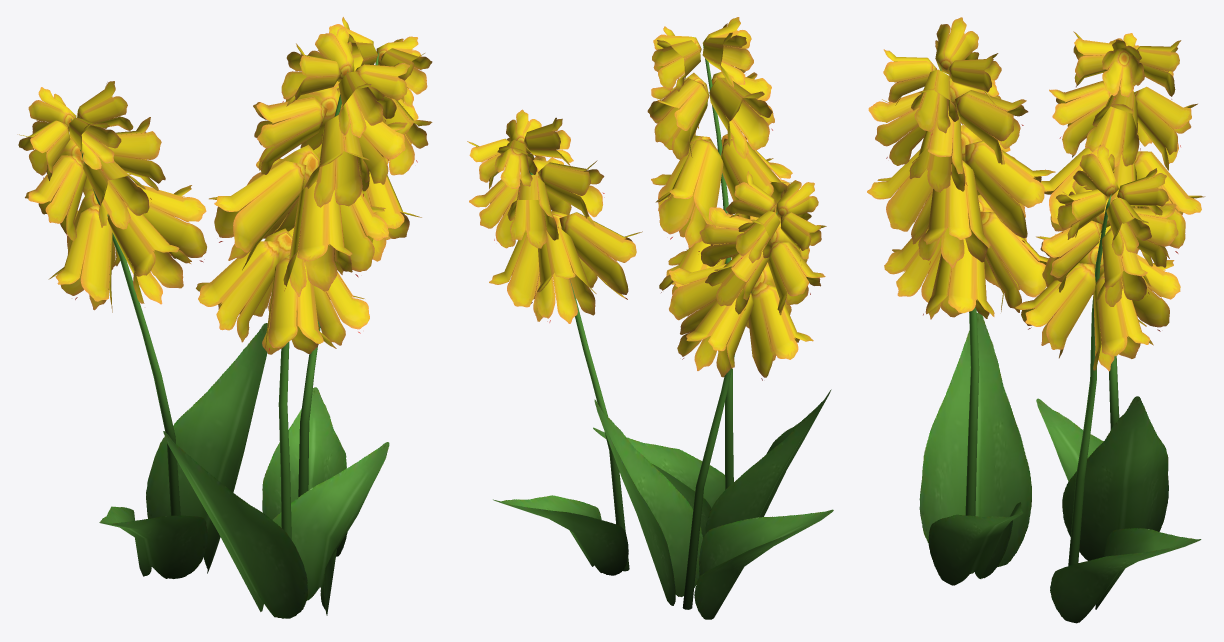
The model's file is fleurs-4.glb.
The picture shows the model from 3 angles, left to right: view 1: azimuth 30°, elevation 25°; view 2: azimuth 150°, elevation 25°; view 3: azimuth 270°, elevation 25°; orthographic projection. The views are drawn at different scales.
Visible parts, largest first — view 1: Flower_4_Group; view 2: Flower_4_Group; view 3: Flower_4_Group.
Boxes of the visible parts, bbox=[...] form: Flower_4_Group: bbox=[17, 17, 432, 618]; Flower_4_Group: bbox=[467, 17, 833, 619]; Flower_4_Group: bbox=[867, 17, 1205, 623].
Size of the model in its own units: 1.78 by 2.49 by 1.37.
Materials: 2 (2 with a texture image).
